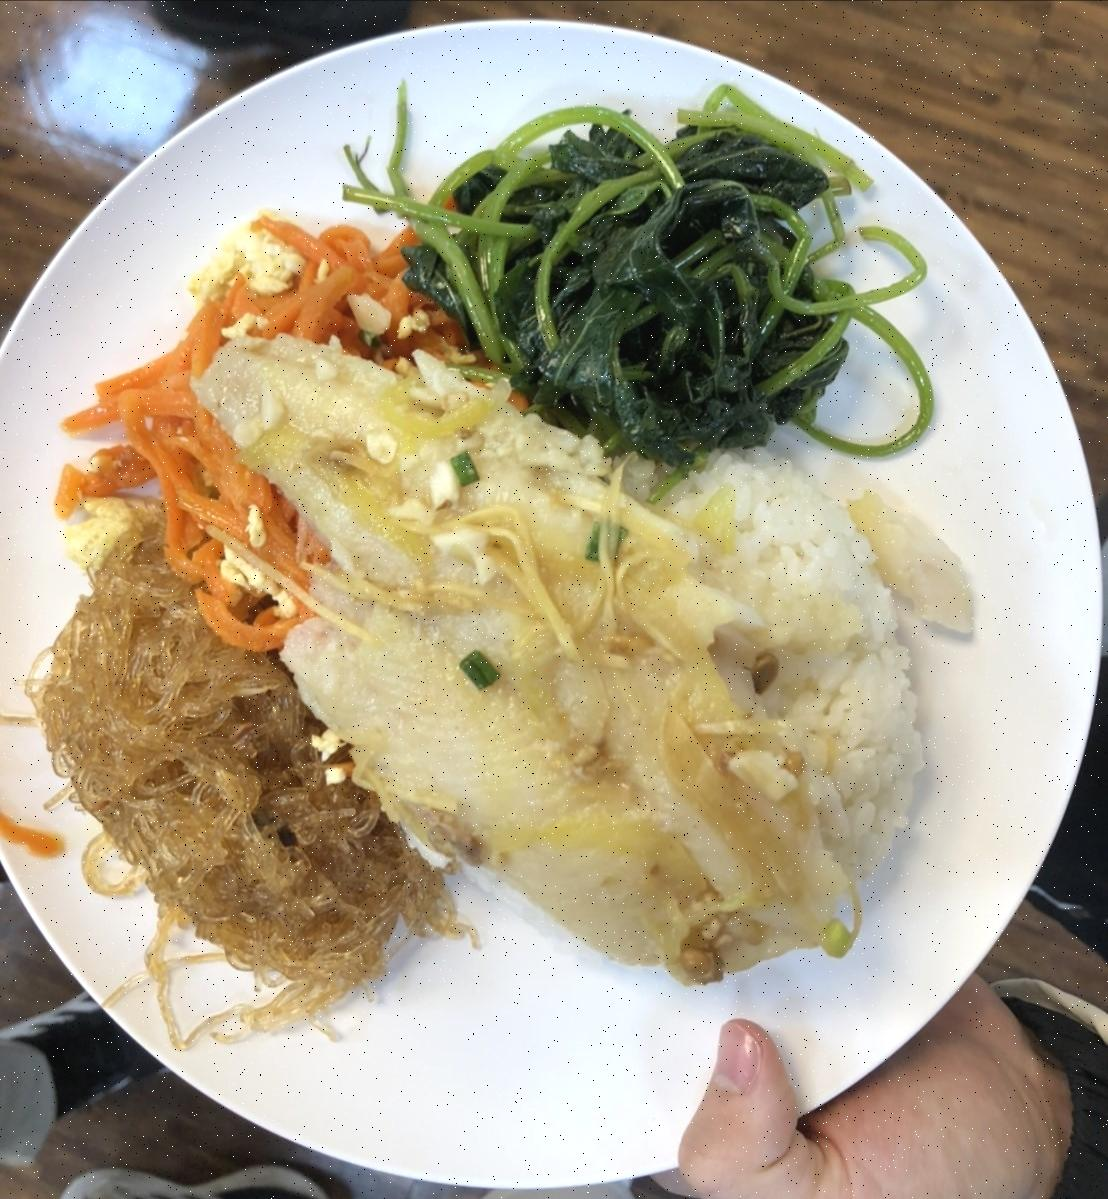plate: (0, 20, 1108, 1196)
side dish: (388, 98, 941, 473), (33, 536, 412, 1004), (62, 206, 446, 648)
steamed fish fillet: (213, 333, 854, 976)
white rice: (640, 435, 930, 898)
